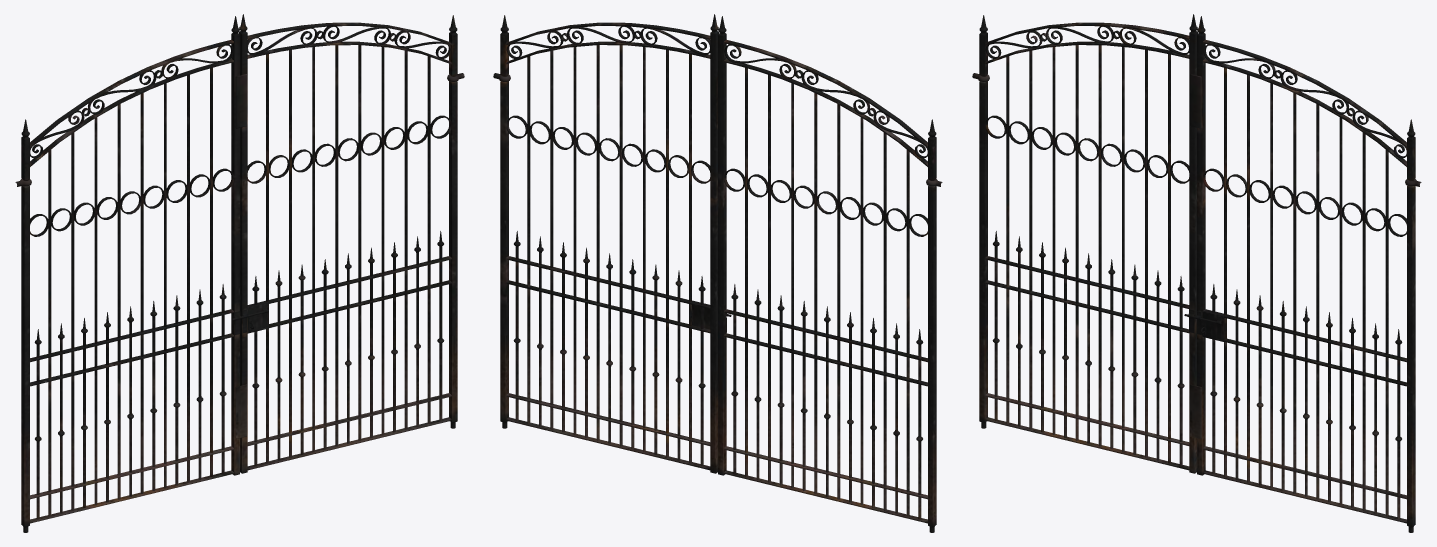
3 renders of one model, left to right at view 1: azimuth 30°, elevation 25°; view 2: azimuth 150°, elevation 25°; view 3: azimuth 330°, elevation 25°, orthographic.
Visible parts, largest first — view 1: large_iron_gate_right_door, large_iron_gate_left_door; view 2: large_iron_gate_left_door, large_iron_gate_right_door; view 3: large_iron_gate_right_door, large_iron_gate_left_door.
Part boxes in pixels (bbox=[...]): large_iron_gate_right_door: bbox=[235, 14, 457, 473]; large_iron_gate_left_door: bbox=[21, 16, 241, 532]; large_iron_gate_left_door: bbox=[718, 16, 936, 532]; large_iron_gate_right_door: bbox=[500, 14, 718, 473]; large_iron_gate_right_door: bbox=[1190, 16, 1415, 532]; large_iron_gate_left_door: bbox=[979, 14, 1197, 473].
Size of the model in its own units: 2.95 by 2.93 by 0.0973.
Materials: 1 (1 with a texture image).
